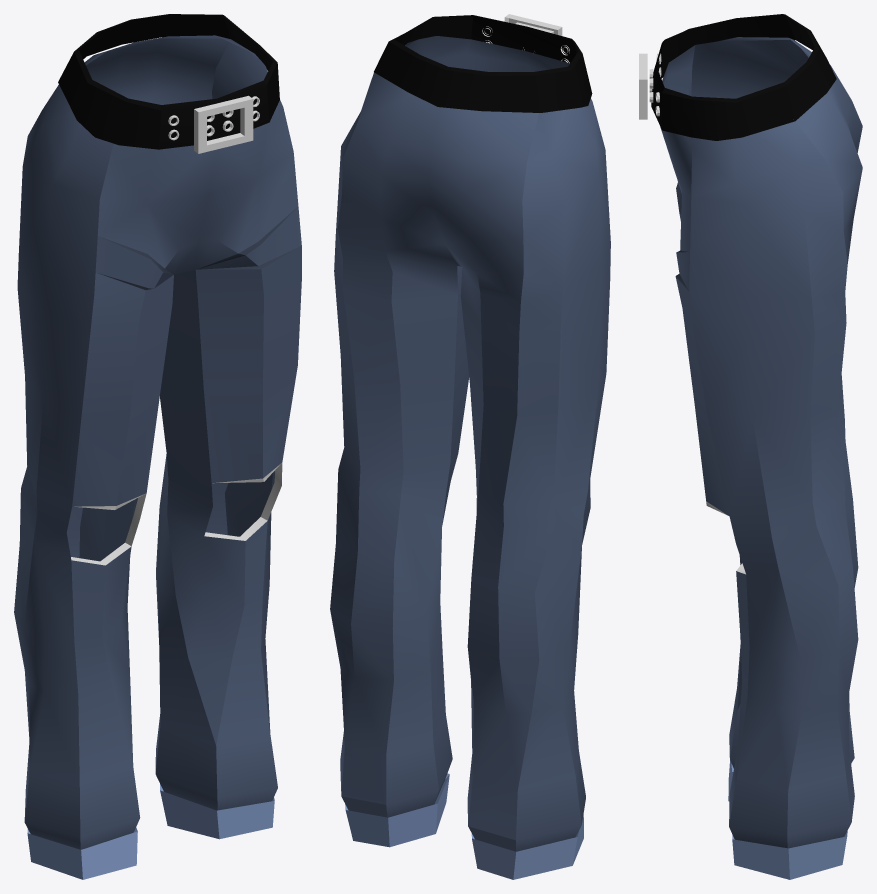
File: PantsG.fbx
The picture shows the model from 3 angles, left to right: view 1: azimuth 30°, elevation 25°; view 2: azimuth 150°, elevation 25°; view 3: azimuth 270°, elevation 25°; orthographic projection. The views are drawn at different scales.
Visible parts, largest first — view 1: PantsG; view 2: PantsG; view 3: PantsG.
Boxes of the visible parts, x1,y1,x2,y2 form: PantsG: [14, 14, 301, 879]; PantsG: [330, 14, 610, 879]; PantsG: [639, 14, 862, 879].
Size of the model in its own units: 38.68 by 120 by 31.24.
